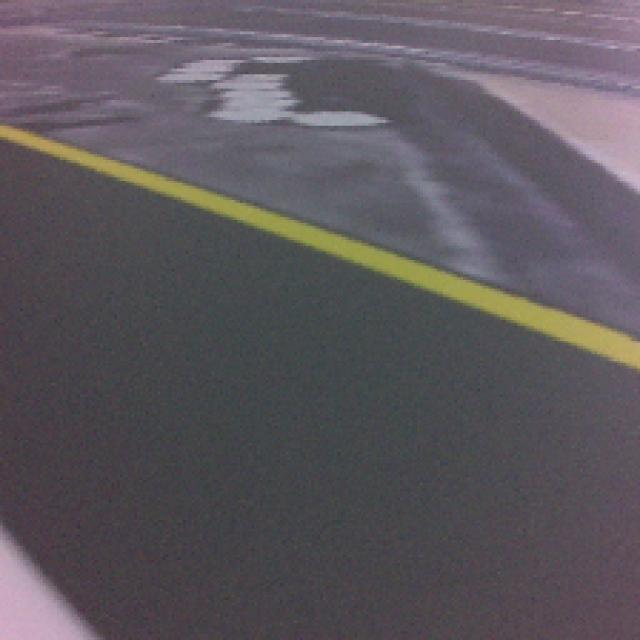Road: (0, 298, 640, 640)
